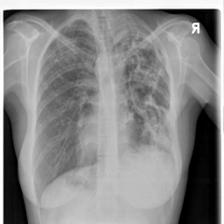tuberculosis: (27, 13, 181, 206)
